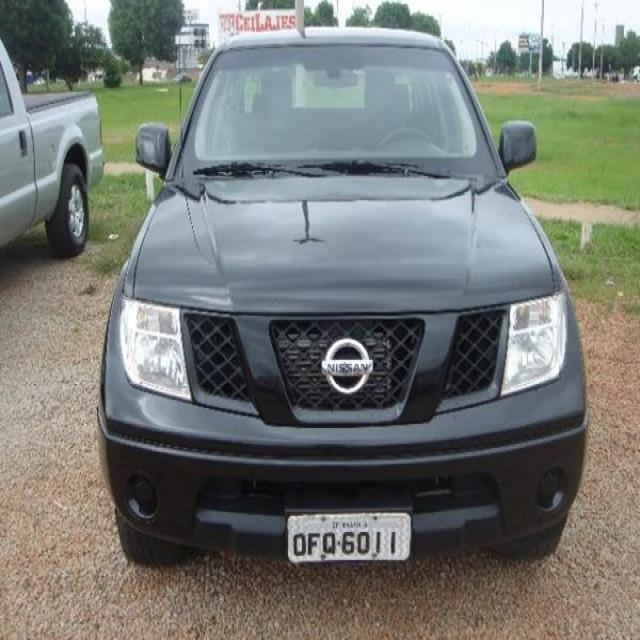Placa: (286, 509, 413, 565)
